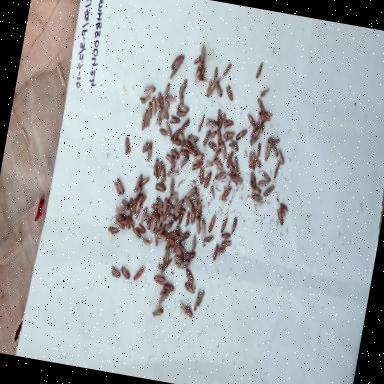pbw: (270, 204, 288, 226), (194, 63, 209, 88), (116, 264, 134, 284), (169, 124, 184, 148), (132, 262, 148, 284), (168, 48, 182, 72), (120, 136, 134, 160), (113, 176, 128, 198), (217, 139, 231, 162), (272, 148, 288, 168), (263, 180, 279, 200), (230, 153, 243, 177), (196, 215, 209, 239), (206, 76, 219, 100), (222, 82, 236, 104), (167, 63, 183, 82), (136, 172, 152, 191), (196, 42, 208, 67), (140, 136, 155, 156), (247, 149, 260, 172), (180, 280, 198, 296), (195, 286, 207, 310), (214, 167, 230, 185), (256, 108, 274, 124), (147, 94, 160, 116), (213, 78, 226, 100), (107, 263, 122, 282), (219, 64, 233, 84), (162, 120, 176, 140), (244, 110, 258, 130), (174, 52, 188, 72), (262, 139, 274, 162), (158, 161, 170, 184), (196, 163, 208, 186), (202, 169, 214, 192), (160, 253, 173, 274), (250, 192, 267, 208), (142, 82, 158, 99), (159, 100, 171, 122), (144, 100, 156, 122), (180, 114, 192, 136), (208, 209, 219, 233), (176, 84, 188, 106), (213, 108, 224, 132), (130, 192, 142, 214), (161, 202, 173, 224), (248, 128, 261, 148), (161, 244, 174, 264), (126, 196, 137, 219), (196, 112, 207, 135), (226, 138, 240, 156), (166, 166, 184, 180), (234, 126, 248, 144), (173, 207, 186, 226), (187, 206, 198, 228), (149, 212, 160, 234), (220, 111, 230, 135), (272, 160, 284, 180), (212, 64, 222, 88), (142, 212, 154, 232), (174, 100, 191, 114), (211, 156, 225, 173), (156, 290, 170, 307), (220, 185, 234, 202), (268, 140, 281, 158), (207, 182, 218, 203), (143, 109, 154, 130), (160, 82, 171, 103), (214, 127, 225, 148), (192, 290, 202, 313), (190, 159, 205, 174), (183, 143, 198, 158), (151, 274, 166, 289), (192, 150, 206, 166), (260, 168, 274, 184), (134, 191, 144, 213), (249, 120, 260, 140), (192, 214, 203, 234), (225, 150, 235, 172), (132, 172, 142, 194), (154, 106, 164, 128), (151, 156, 161, 178), (160, 194, 170, 216), (229, 215, 239, 237), (136, 220, 148, 238), (204, 118, 219, 132), (244, 150, 254, 171), (136, 94, 151, 108), (156, 233, 172, 246), (130, 226, 143, 242), (195, 195, 204, 218), (150, 231, 162, 248), (125, 214, 137, 231), (220, 214, 230, 234), (210, 242, 220, 262), (134, 202, 144, 222), (138, 112, 148, 132), (178, 78, 188, 98), (176, 129, 187, 147), (139, 206, 148, 228), (117, 202, 131, 216), (164, 92, 178, 106), (186, 132, 200, 146), (222, 130, 236, 144), (202, 232, 216, 246), (214, 244, 228, 258), (206, 139, 219, 154), (168, 113, 181, 128), (157, 124, 169, 140), (121, 216, 133, 232), (206, 129, 218, 145), (255, 96, 267, 112), (186, 183, 198, 199), (192, 52, 204, 68), (178, 156, 190, 172), (112, 212, 128, 224), (253, 142, 263, 161), (132, 185, 142, 204), (192, 186, 202, 205), (145, 144, 154, 165), (230, 174, 244, 187), (169, 146, 182, 160), (266, 136, 280, 149), (154, 182, 168, 195), (112, 219, 125, 233), (183, 268, 196, 282), (219, 119, 234, 131), (190, 233, 199, 253), (154, 162, 164, 180), (174, 198, 184, 216), (255, 62, 264, 82), (169, 153, 179, 171), (182, 194, 193, 210), (218, 231, 234, 242), (106, 225, 122, 236), (171, 198, 181, 215), (219, 237, 232, 250), (249, 184, 262, 197), (183, 250, 197, 262), (178, 258, 192, 270), (174, 108, 188, 120), (177, 243, 189, 257), (152, 98, 164, 112), (154, 196, 166, 210), (161, 222, 175, 234), (252, 156, 264, 170), (180, 138, 192, 152), (183, 306, 195, 320), (257, 178, 271, 190), (227, 163, 237, 179), (174, 232, 182, 252), (168, 190, 178, 206), (260, 84, 270, 100), (211, 148, 221, 164), (164, 154, 176, 167), (174, 245, 185, 259), (148, 208, 157, 225), (196, 203, 204, 222), (201, 158, 213, 170), (184, 210, 192, 228), (172, 253, 184, 265), (176, 304, 188, 316), (202, 130, 210, 148), (174, 260, 186, 272), (178, 147, 190, 159), (164, 200, 176, 212), (168, 178, 176, 196), (174, 224, 184, 238), (166, 230, 180, 240), (150, 202, 164, 212), (166, 234, 176, 248), (155, 92, 165, 106), (164, 236, 172, 253), (156, 213, 164, 230), (140, 237, 152, 248), (188, 143, 200, 154), (180, 230, 190, 243), (152, 223, 162, 236), (158, 222, 166, 238), (156, 263, 165, 277), (190, 146, 201, 157), (188, 190, 198, 202), (188, 195, 198, 207), (164, 213, 176, 223), (158, 229, 168, 240), (177, 206, 187, 216)
